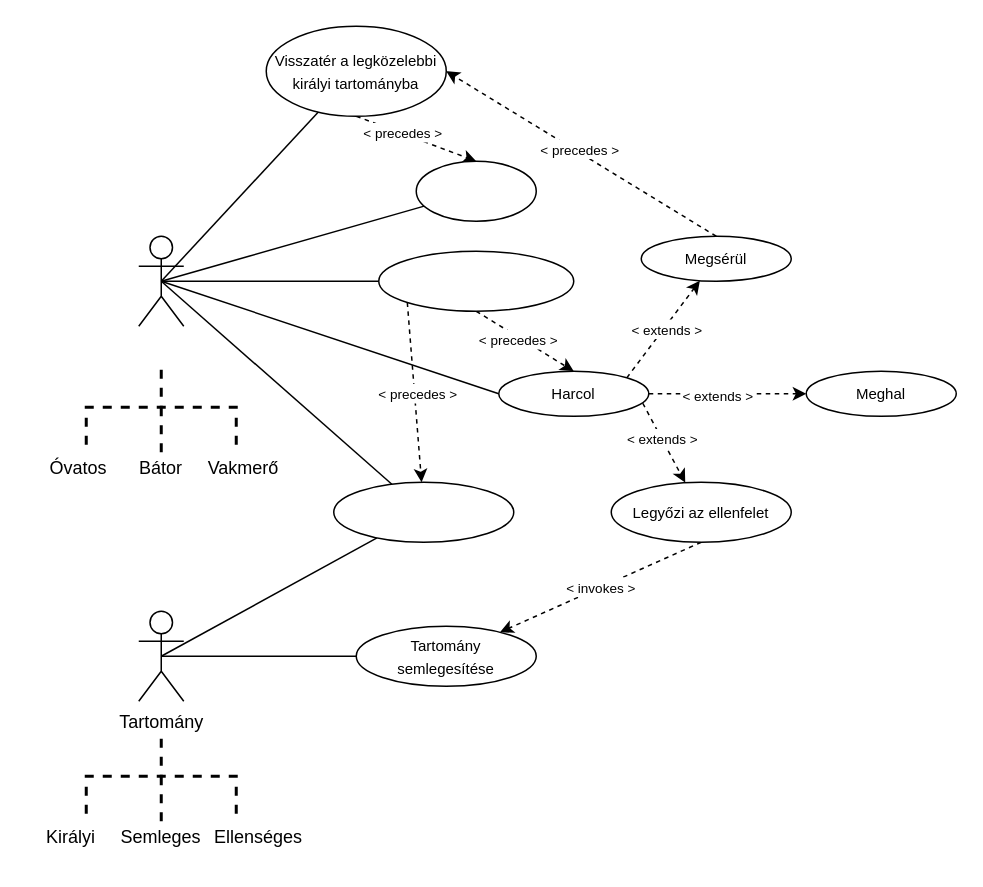
Image size: 983x887. Some labels were removed from this diagram. The centre of each missing label's shape, as x and y in pixels:
Gyógyul: point 475,190
Következő tartományra megy: point 475,280
Lovag: point 160,280
Semleges tartomány elfoglalása: point 423,511
